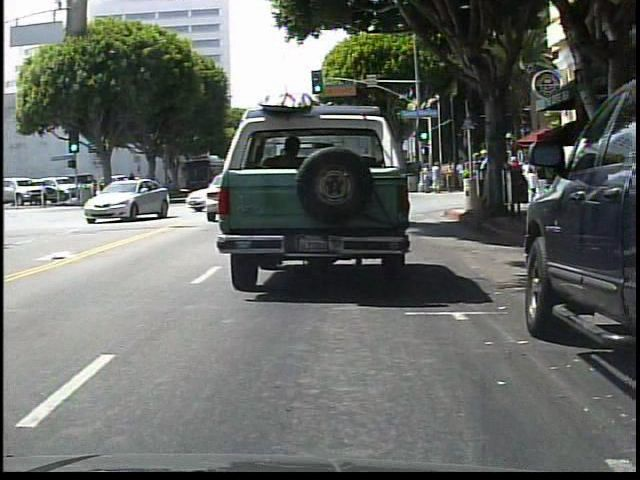person: (508, 153, 527, 222), (477, 148, 493, 207), (525, 164, 543, 206), (535, 156, 549, 200), (432, 161, 443, 194), (446, 160, 457, 192), (420, 163, 431, 193)
